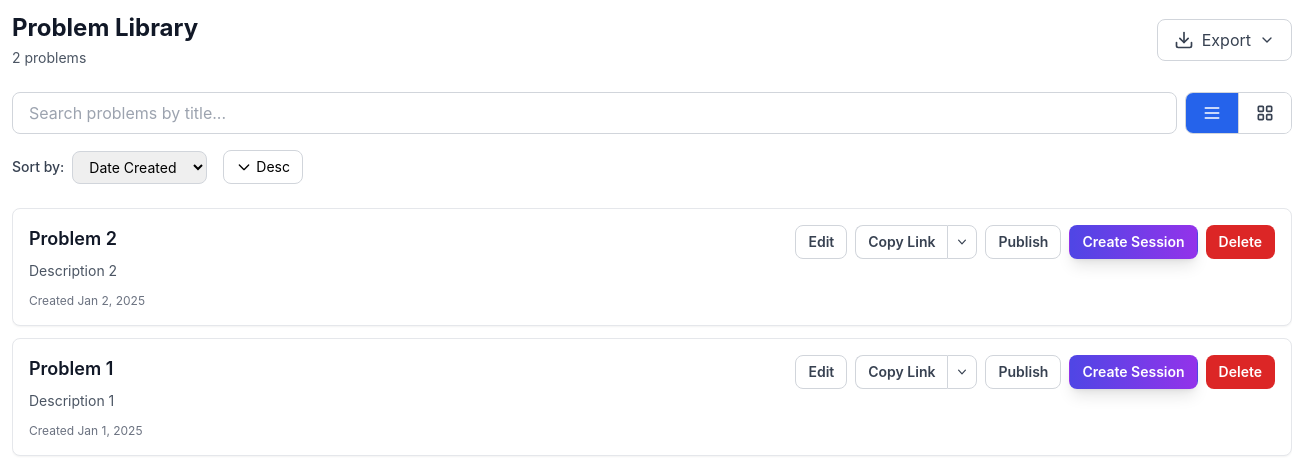
Test: ProblemLibrary › Export dropdown › renders two format options in dropdown
Expected: the heading "Problem Library" is shown, [12, 12, 198, 44]
Click the button "Export" at (1224, 40), box [1157, 19, 1292, 61]
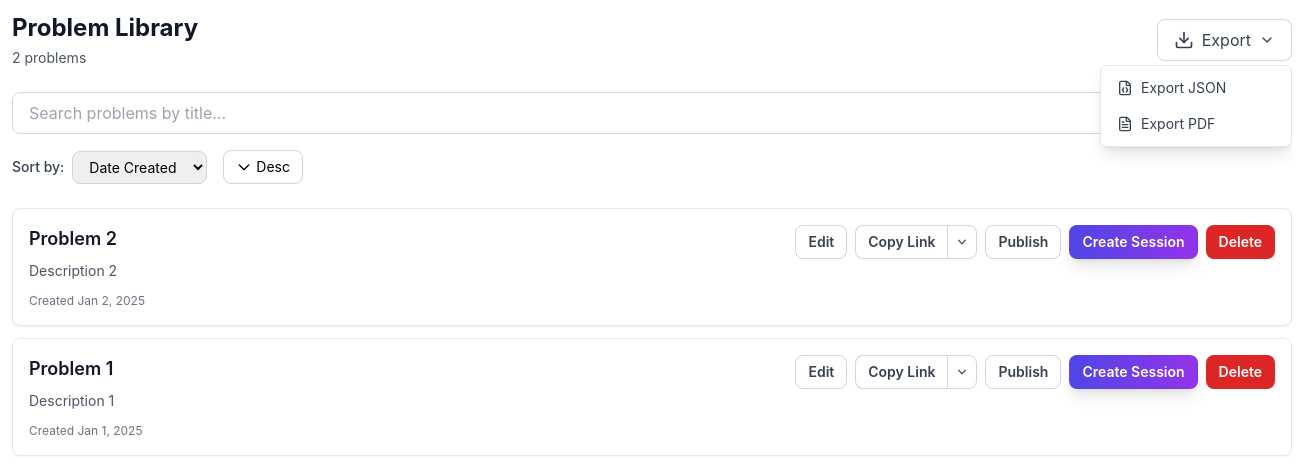
Expected: the menu item "Export JSON" is shown, [1101, 70, 1291, 106]
Expected: the menu item "Export PDF" is shown, [1101, 106, 1291, 142]
